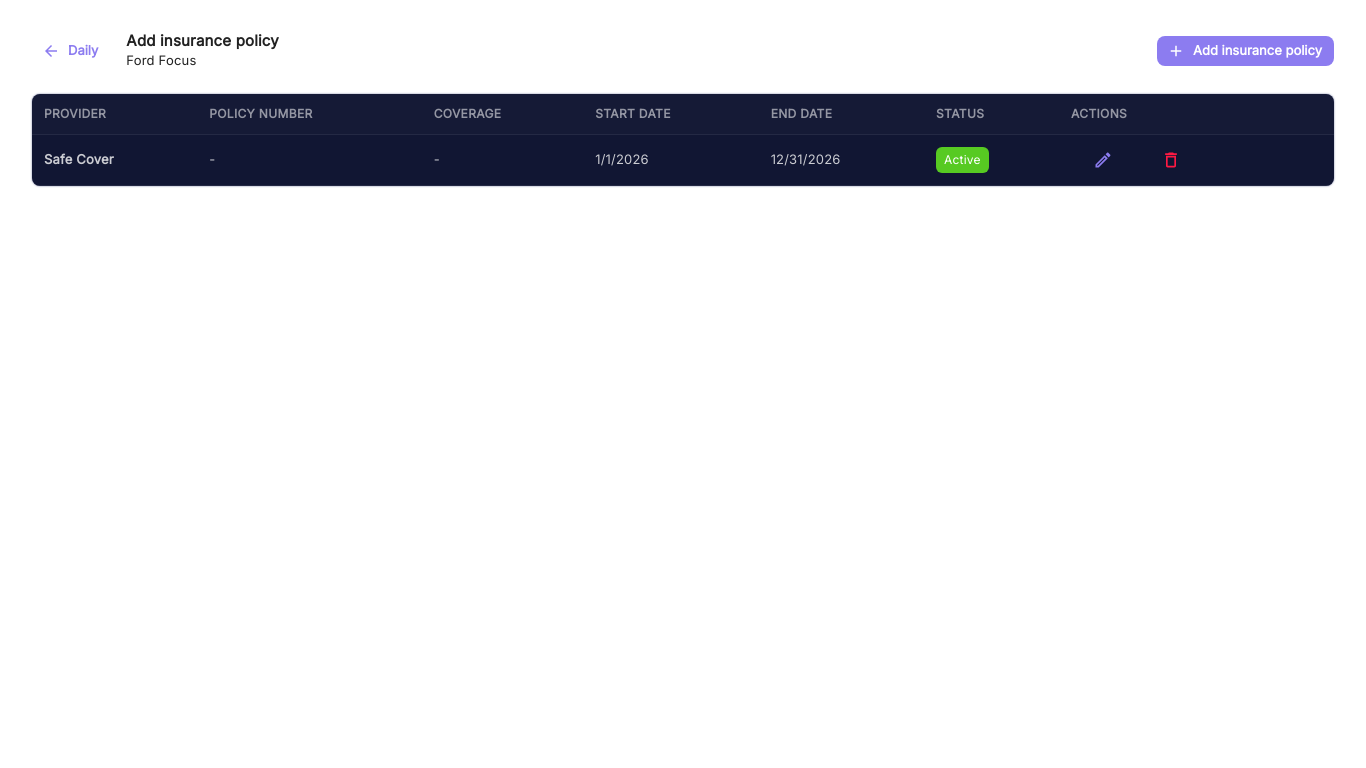
Test case: My Garage review round 1 › insurance_WhenUpdateConflicts_ShowsLocalizedConflict
Expected: the text "Safe Cover" is shown, [44, 151, 114, 167]
Click the button named "Edit insurance policy: Safe Cover".
click(1103, 160)  # box [1071, 145, 1135, 175]
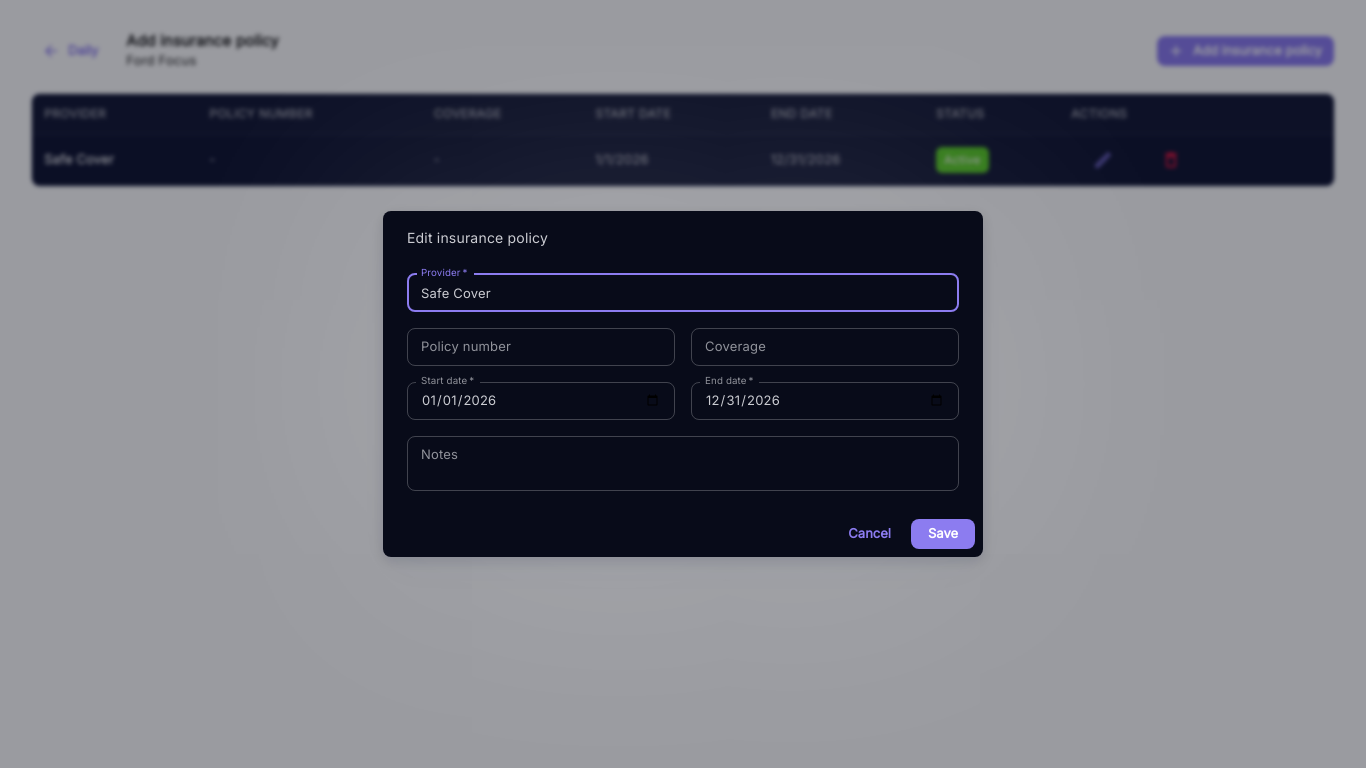
Click the button "Save".
click(943, 534)  # box [911, 519, 975, 549]
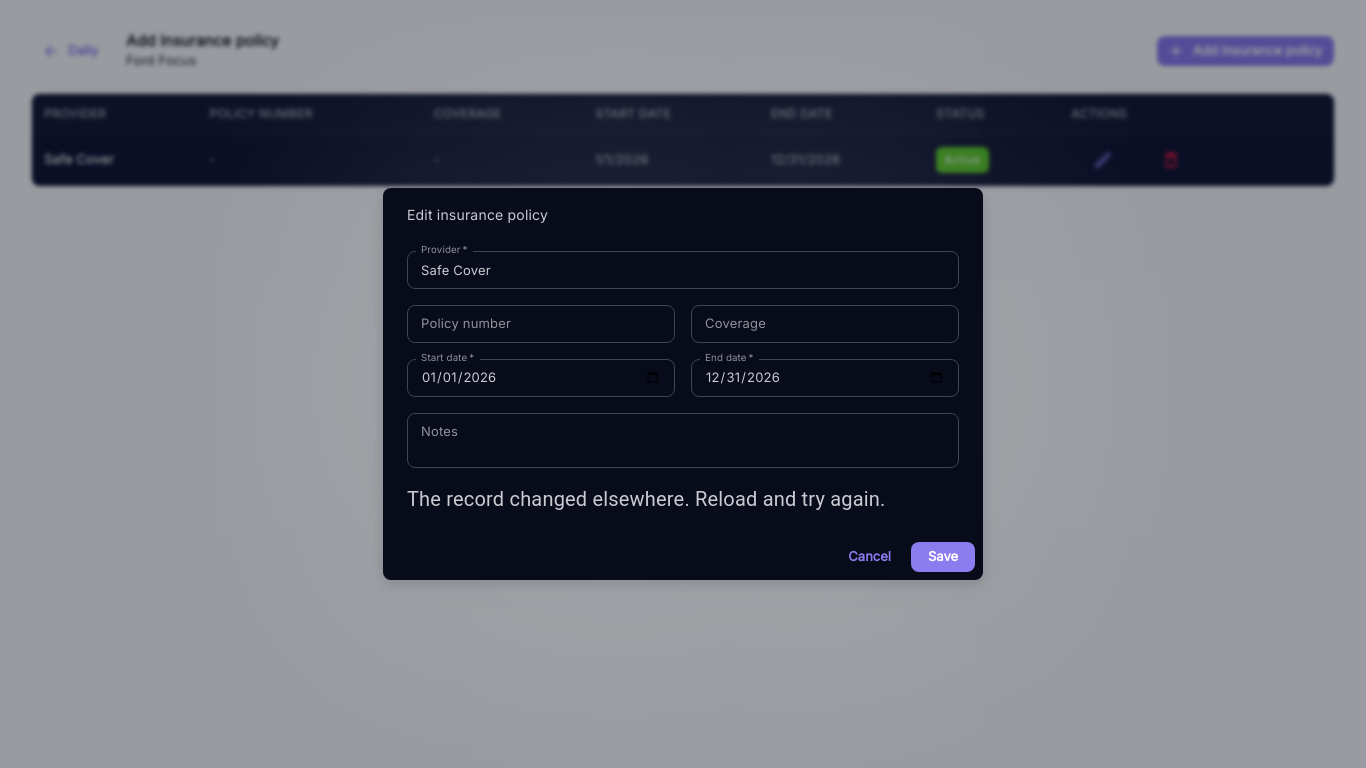
Expected: the text "The record changed elsewhere. Reload and try again." is shown, [407, 484, 959, 514]
